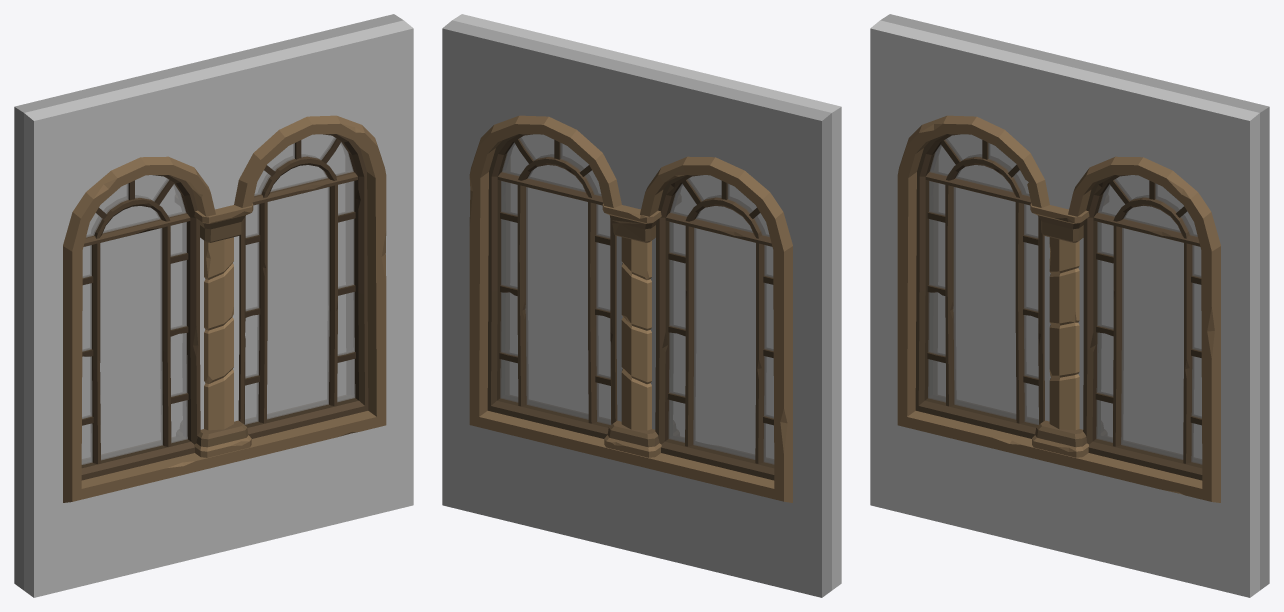
The model's file is SM_Bld_Wall_Manor_Window_03.fbx.
3 renders of one model, left to right at view 1: azimuth 30°, elevation 25°; view 2: azimuth 150°, elevation 25°; view 3: azimuth 330°, elevation 25°, orthographic.
Visible parts, largest first — view 1: SM_Bld_Wall_Manor_Window_03, SM_Bld_Wall_Manor_Window_03_Glass; view 2: SM_Bld_Wall_Manor_Window_03, SM_Bld_Wall_Manor_Window_03_Glass; view 3: SM_Bld_Wall_Manor_Window_03, SM_Bld_Wall_Manor_Window_03_Glass.
Part boxes in pixels (x1=…): SM_Bld_Wall_Manor_Window_03: x1=14, y1=14, x2=413, y2=597; SM_Bld_Wall_Manor_Window_03_Glass: x1=81, y1=134, x2=355, y2=464; SM_Bld_Wall_Manor_Window_03: x1=442, y1=14, x2=841, y2=597; SM_Bld_Wall_Manor_Window_03_Glass: x1=500, y1=134, x2=774, y2=464; SM_Bld_Wall_Manor_Window_03: x1=870, y1=14, x2=1269, y2=597; SM_Bld_Wall_Manor_Window_03_Glass: x1=928, y1=134, x2=1202, y2=464.
Size of the model in its own units: 250 by 301 by 37.75.
